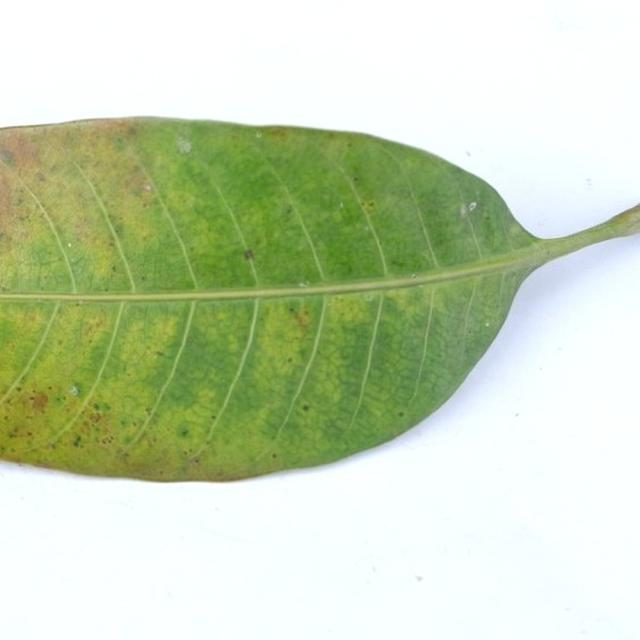Mango: (0, 118, 639, 481)
Powdery_Mildew: (198, 305, 254, 343), (331, 296, 370, 329), (214, 325, 246, 360), (124, 172, 155, 199), (29, 255, 70, 271), (170, 423, 201, 443), (320, 421, 348, 443), (82, 315, 107, 339), (87, 398, 118, 416), (290, 308, 311, 331), (387, 254, 411, 272), (34, 260, 50, 287), (28, 390, 49, 409), (123, 123, 141, 139), (176, 138, 192, 154), (0, 148, 15, 165), (89, 412, 103, 424), (188, 457, 200, 469), (243, 249, 255, 260), (283, 204, 293, 217), (100, 435, 113, 445), (35, 172, 46, 182), (69, 385, 79, 396), (363, 200, 375, 209), (70, 256, 82, 265), (297, 241, 306, 251), (364, 293, 374, 302), (468, 202, 477, 212), (73, 435, 81, 446), (74, 300, 85, 307), (180, 428, 189, 436), (14, 198, 23, 206), (155, 350, 164, 357), (145, 407, 152, 415), (585, 178, 593, 185), (1, 286, 10, 292), (302, 404, 309, 411), (255, 131, 262, 138), (467, 327, 473, 335), (16, 386, 23, 392), (111, 265, 117, 272), (347, 141, 353, 148), (365, 225, 371, 232), (0, 232, 5, 240), (287, 357, 293, 363), (398, 411, 404, 417), (289, 307, 295, 313), (353, 176, 359, 182), (411, 273, 417, 279), (546, 249, 551, 256), (211, 415, 217, 420), (272, 453, 277, 459), (47, 385, 53, 390), (339, 202, 344, 208)
